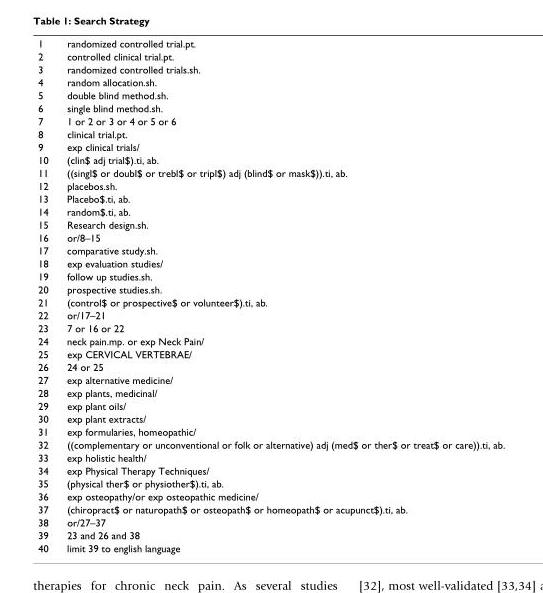table: (37, 37, 504, 553)
table column: (56, 37, 504, 553), (37, 37, 56, 553)
table row: (37, 49, 504, 62), (37, 62, 504, 75), (37, 75, 504, 88), (37, 88, 504, 101), (37, 101, 504, 114), (37, 114, 504, 127), (37, 127, 504, 140), (37, 140, 504, 153), (37, 165, 504, 178), (37, 178, 504, 191), (37, 191, 504, 204), (37, 204, 504, 217), (37, 217, 504, 230), (37, 230, 504, 243), (37, 243, 504, 256), (37, 256, 504, 269), (37, 269, 504, 282), (37, 282, 504, 295), (37, 295, 504, 308), (37, 308, 504, 321), (37, 321, 504, 334), (37, 334, 504, 347), (37, 347, 504, 360), (37, 360, 504, 373), (37, 373, 504, 386), (37, 398, 504, 411), (37, 411, 504, 424), (37, 424, 504, 437), (37, 437, 504, 450), (37, 450, 504, 463), (37, 463, 504, 476), (37, 476, 504, 489), (37, 489, 504, 502), (37, 502, 504, 515), (37, 515, 504, 528), (37, 528, 504, 541), (37, 37, 504, 49), (37, 153, 504, 165), (37, 386, 504, 398), (37, 541, 504, 553)
